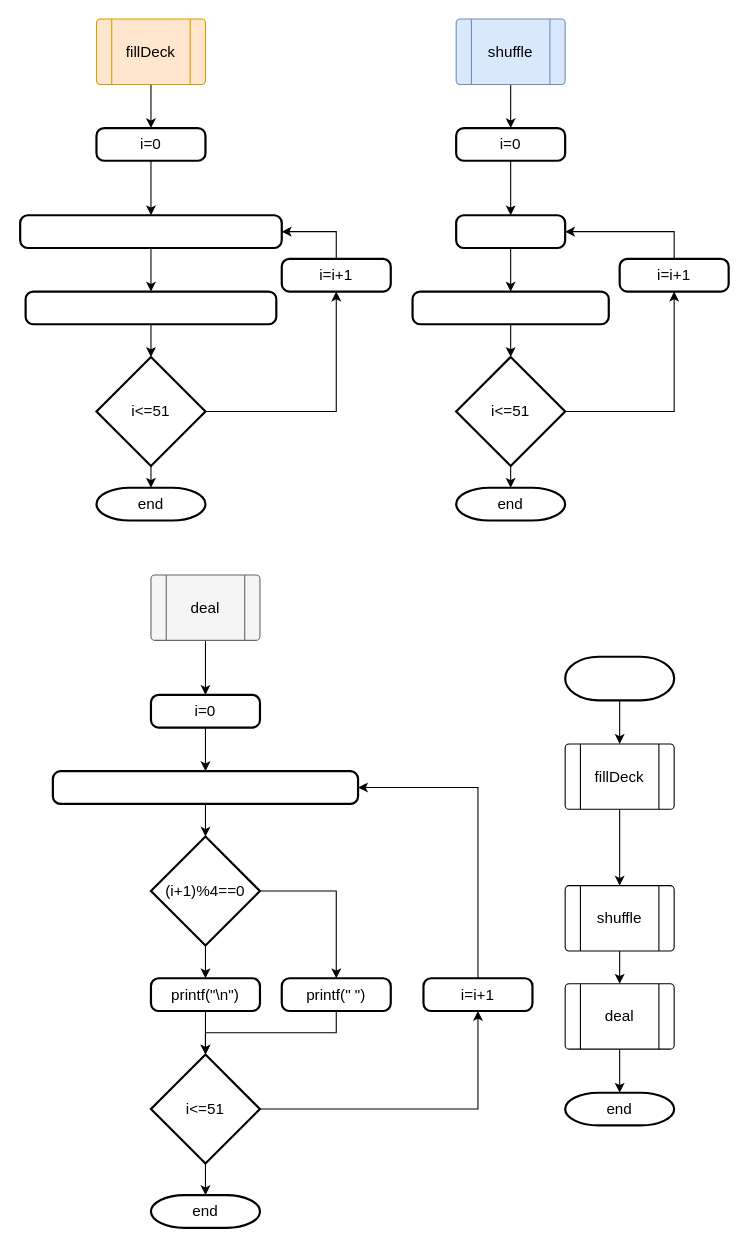
This 748x1248 diagram has some shape labels left out. The shapes that lost their labels are listed below. From the top down, each one's centre as x and y in pixels, then its label:
At pixel 150 231: "wDeck[i].face = wFace[i % 13]".
At pixel 510 231: "j=rand()%52".
At pixel 150 307: "wDeck[i].suit= wSuit[i % 13]".
At pixel 510 307: "swap(wDeck[i],wDeck[j])".
At pixel 619 678: "start".
At pixel 205 787: "printf(wDeck[i].face) of wDeck[i].suit)".
